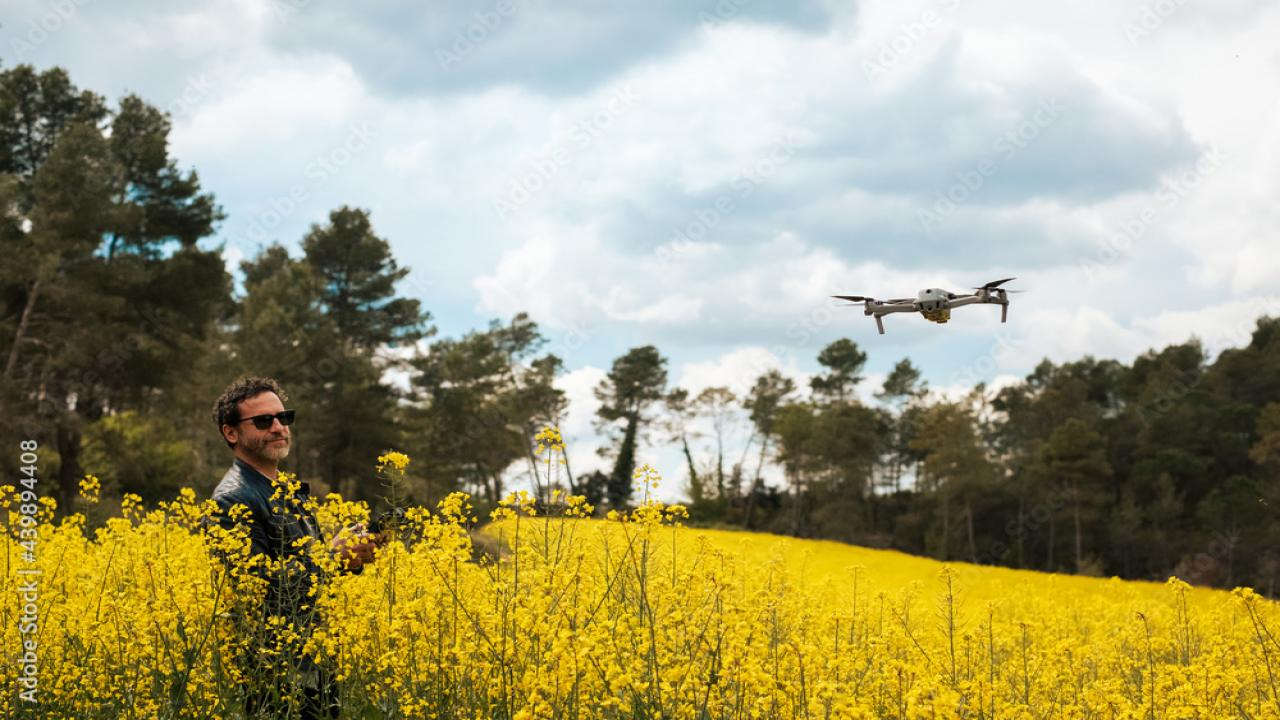Drone: (817, 264, 1045, 348)
